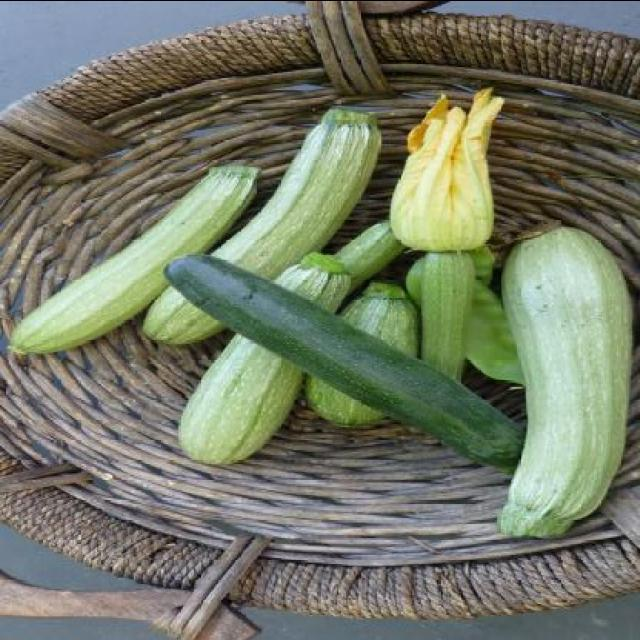Cucumber: (185, 260, 513, 471)
